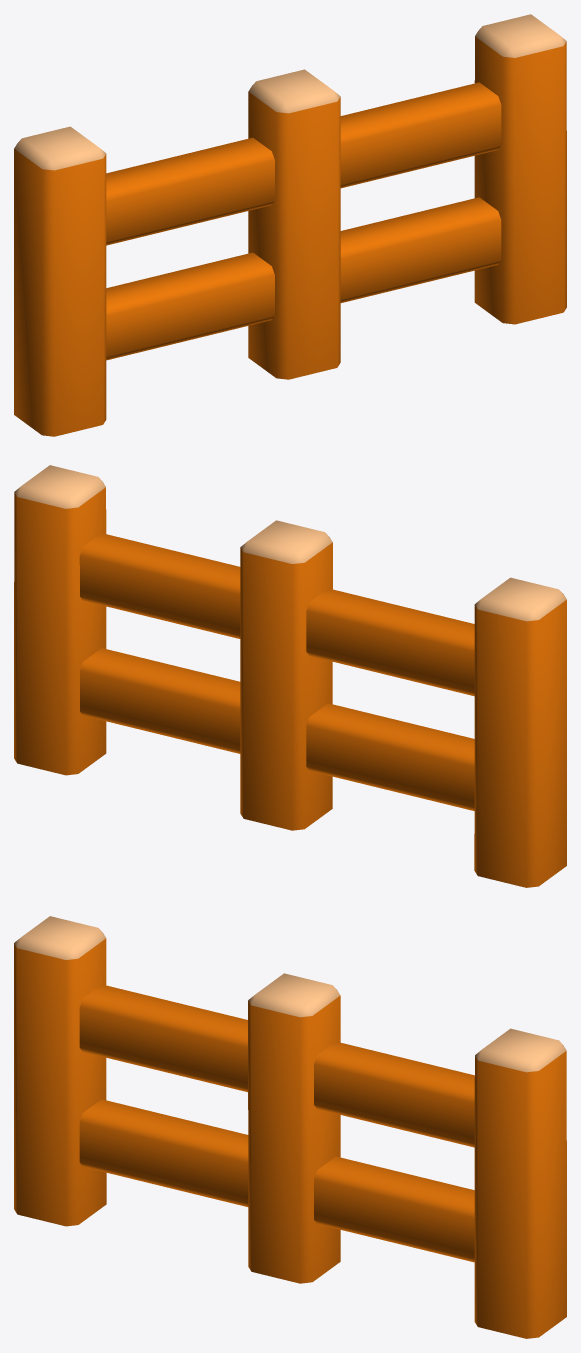
File: Farm_Fence_C_01.glb
3 views of the same model, one above another, from view 1: azimuth 30°, elevation 25°; view 2: azimuth 150°, elevation 25°; view 3: azimuth 330°, elevation 25° (orthographic).
Visible parts, largest first — view 1: Farm_Fence_C_01; view 2: Farm_Fence_C_01; view 3: Farm_Fence_C_01.
Boxes of the visible parts, bbox=[...] form: Farm_Fence_C_01: bbox=[14, 14, 566, 436]; Farm_Fence_C_01: bbox=[14, 465, 566, 887]; Farm_Fence_C_01: bbox=[14, 916, 566, 1338].
Size of the model in its own units: 2 by 1 by 0.2468.
Materials: 1 (1 with a texture image).
